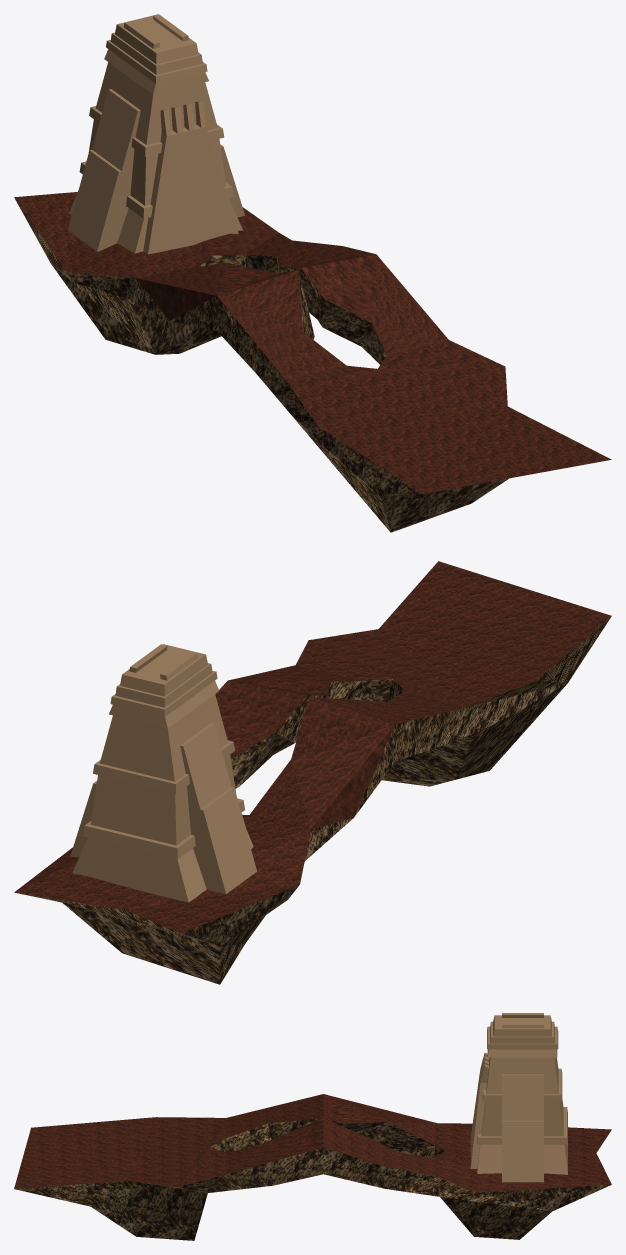
The model's file is facingworldshehe6.gltf.
3 views of the same model, one above another, from view 1: azimuth 30°, elevation 25°; view 2: azimuth 150°, elevation 25°; view 3: azimuth 270°, elevation 25° (orthographic). The views are drawn at different scales.
Parts seen in each view (by area): view 1: Plane.001; view 2: Plane.001; view 3: Plane.001.
Part boxes in pixels (box(x1,y1,x2,y2)): Plane.001: box(14, 14, 611, 532); Plane.001: box(14, 561, 611, 984); Plane.001: box(14, 1013, 611, 1240).
Bounding box in the file's own units: 35.56 × 48.53 × 120.
Materials: 3 (2 with a texture image).
